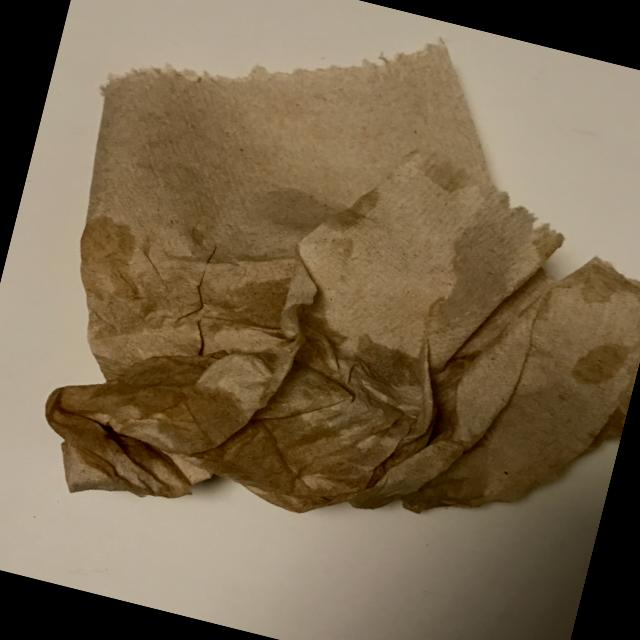Paper: (11, 0, 640, 613)
